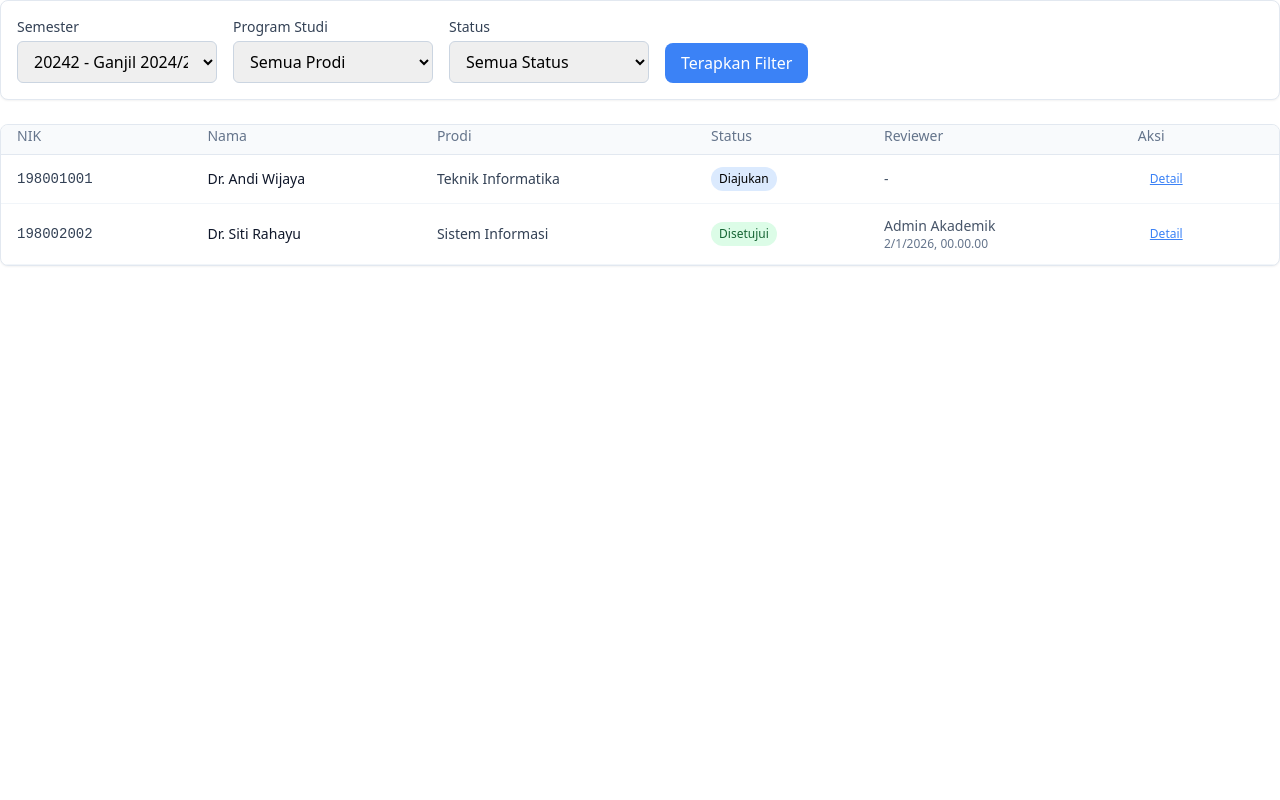
Test: AdminCourseReviewPage — Persetujuan MK Dosen › modal detail → klik Tolak → buka review modal dengan judul Tolak
The image size is (1280, 800).
Click the button "Detail" in the row of "198001001". click: [1166, 179]
box: [1138,167,1195,191]
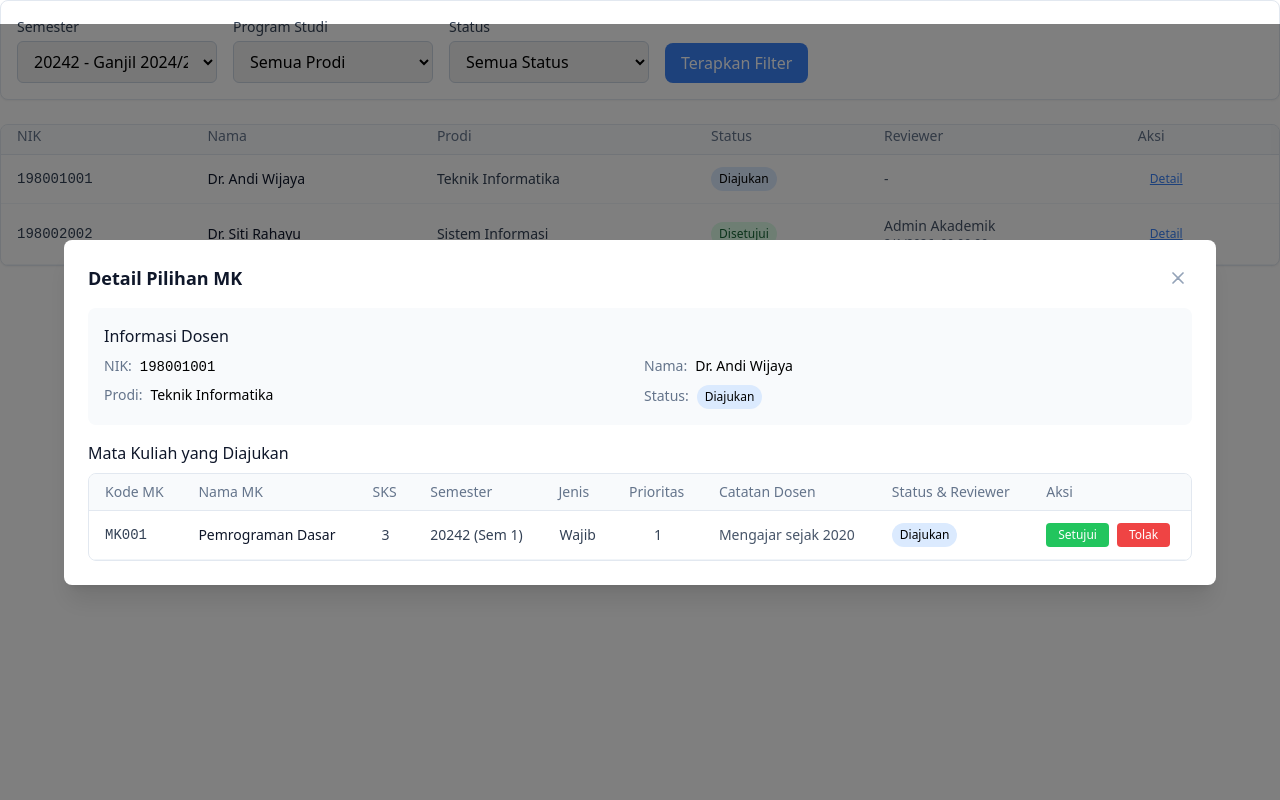
expect the button "Tolak" is shown: met
Click the button "Tolak". click: [1144, 534]
box: [1117,522,1170,546]
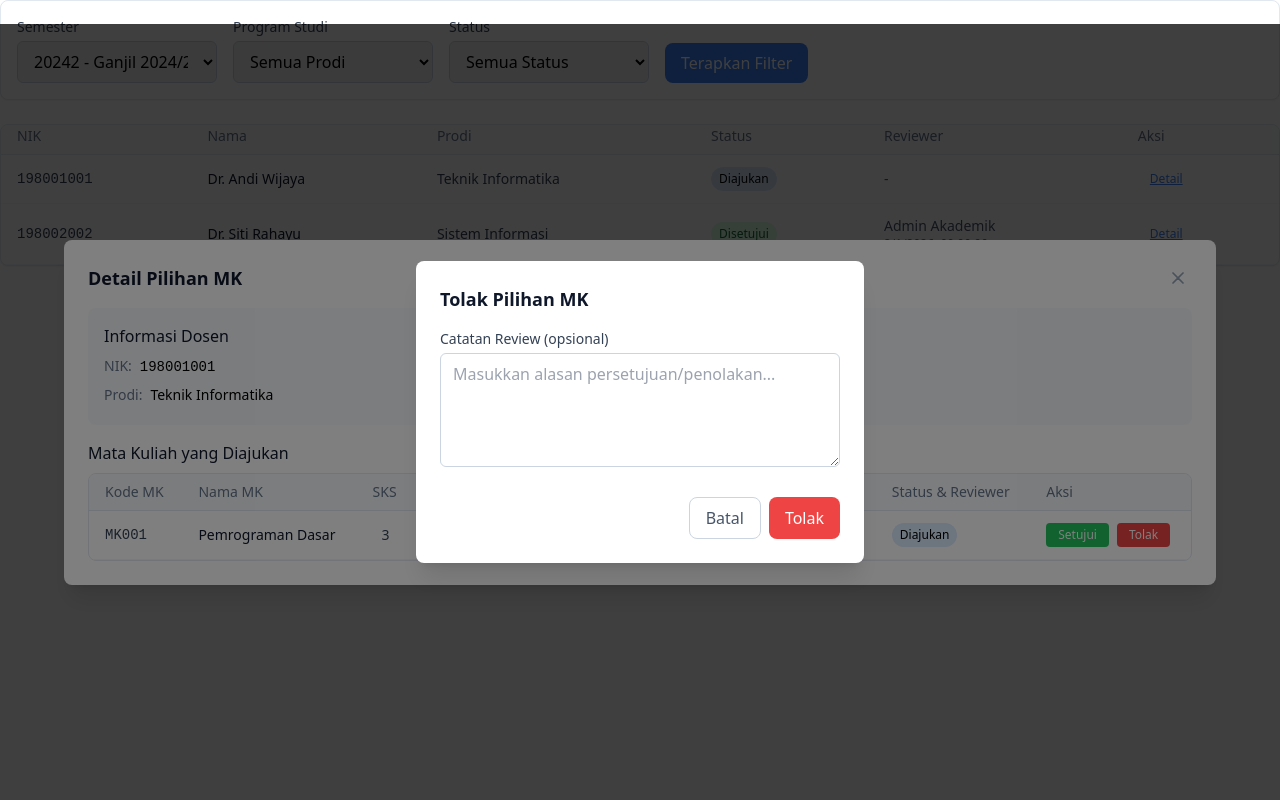
expect the heading "Tolak Pilihan MK" is shown: met, box [440,287,588,311]
